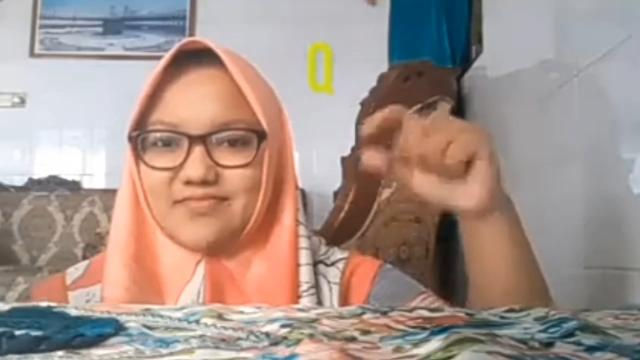Q: (352, 101, 502, 219)
